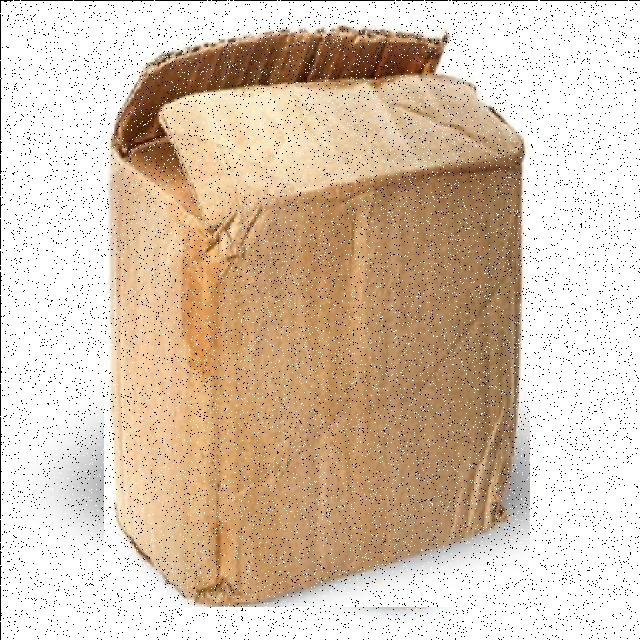defect: (103, 17, 529, 606)
